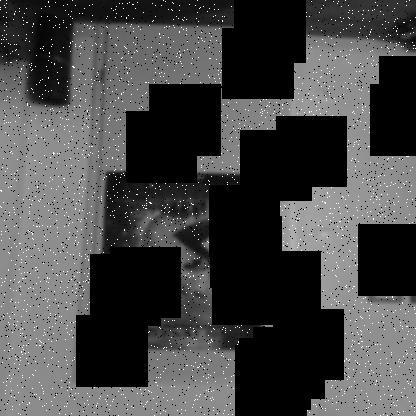Porte: (72, 20, 302, 387)
